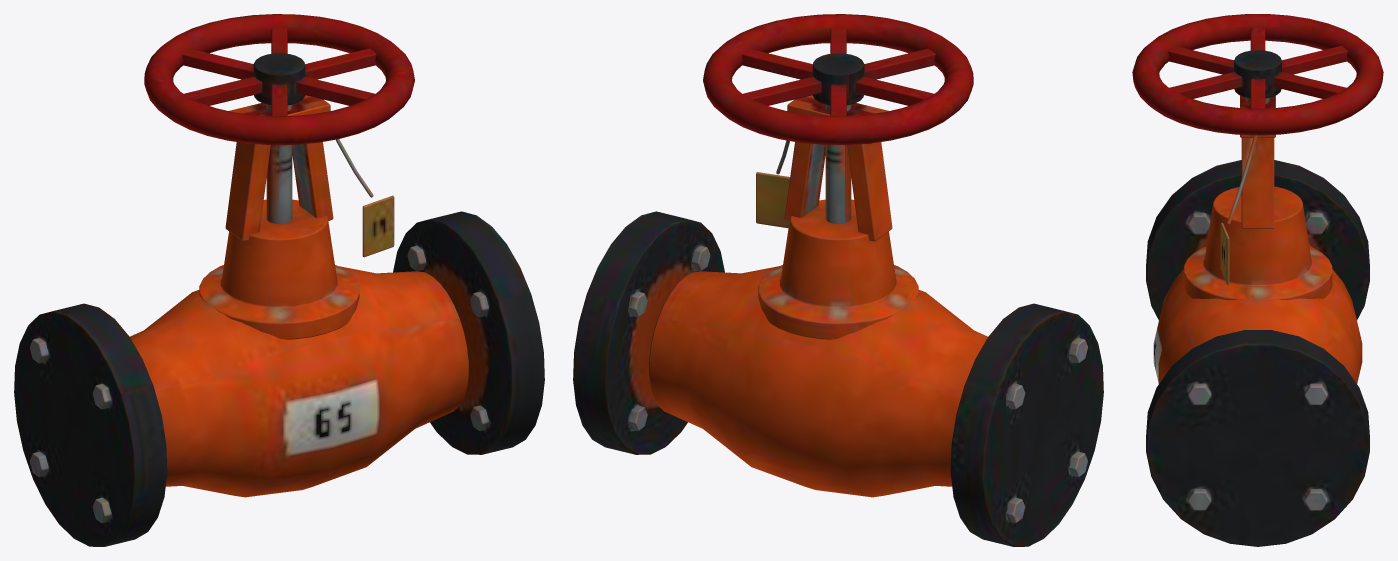
The model's file is valve.glb.
The picture shows the model from 3 angles, left to right: view 1: azimuth 30°, elevation 25°; view 2: azimuth 150°, elevation 25°; view 3: azimuth 270°, elevation 25°; orthographic projection. The views are drawn at different scales.
Parts seen in each view (by area): view 1: valve; view 2: valve; view 3: valve.
Boxes of the visible parts, box(x1,y1,x2,y2) form: valve: box(14, 14, 544, 546); valve: box(573, 14, 1103, 546); valve: box(1132, 14, 1383, 546).
Size of the model in its own units: 0.304 by 0.291 by 0.1678.
1 material, 1 textured.
